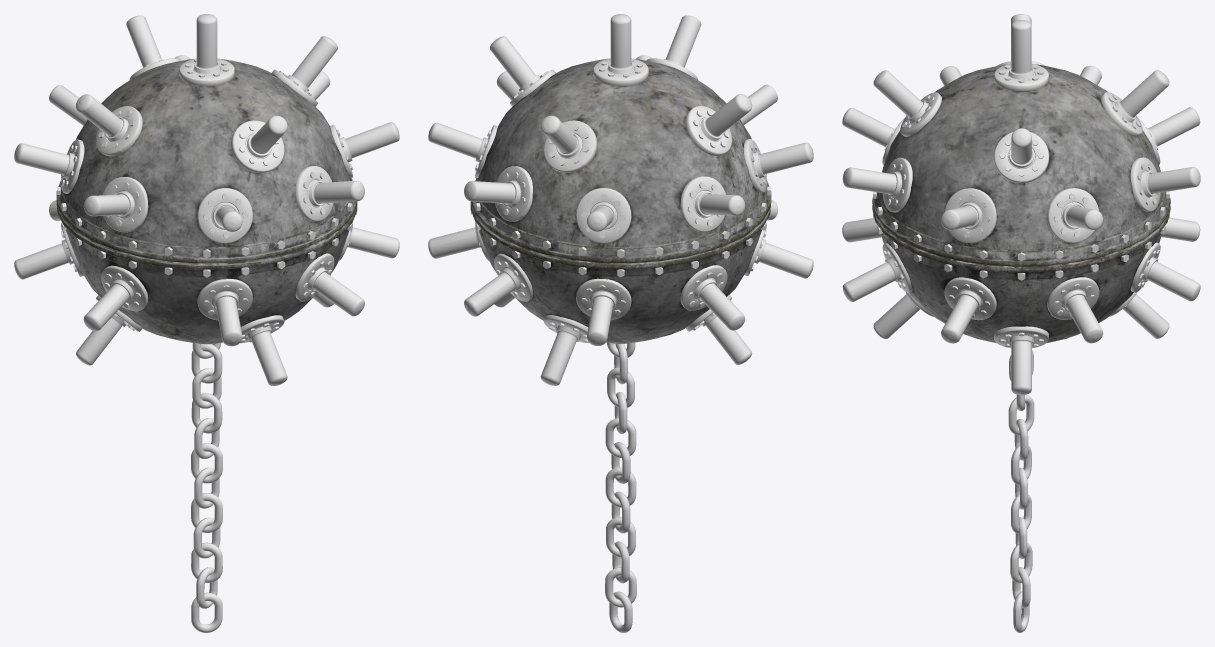
Rendered from Mine.fbx.
3 views of the same model, side by side, from view 1: azimuth 30°, elevation 25°; view 2: azimuth 150°, elevation 25°; view 3: azimuth 270°, elevation 25° (orthographic).
Parts seen in each view (by area): view 1: Mine, Pins, Chain, Bolt; view 2: Mine, Pins, Chain, Bolt; view 3: Mine, Pins, Chain, Bolt.
Part boxes in pixels (x1,y1,x2,y2): Mine: [56, 59, 357, 343]; Pins: [14, 14, 399, 385]; Chain: [191, 342, 222, 632]; Bolt: [57, 58, 356, 342]; Mine: [470, 58, 771, 343]; Pins: [428, 14, 813, 385]; Chain: [605, 342, 636, 632]; Bolt: [471, 58, 770, 342]; Mine: [872, 64, 1170, 342]; Pins: [842, 14, 1200, 395]; Chain: [1008, 350, 1034, 632]; Bolt: [873, 65, 1169, 347].
Bounding box in the file's own units: 150 × 281 × 150.
